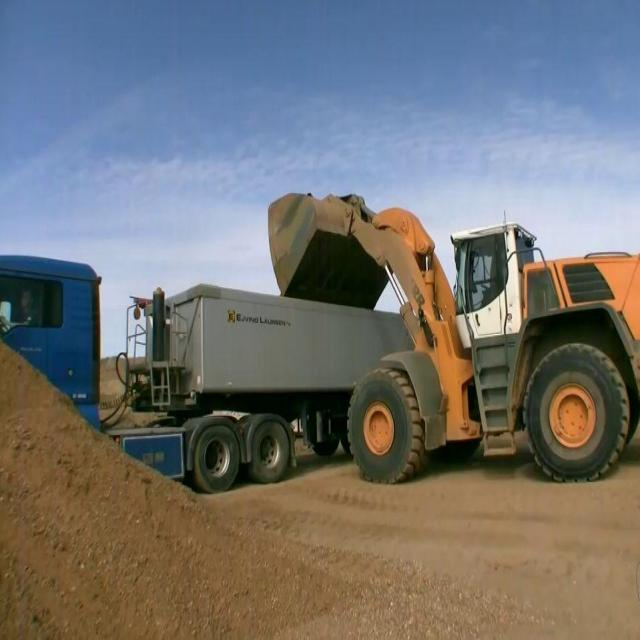Dump Truck: (1, 255, 349, 484)
Loader: (268, 161, 639, 488)
